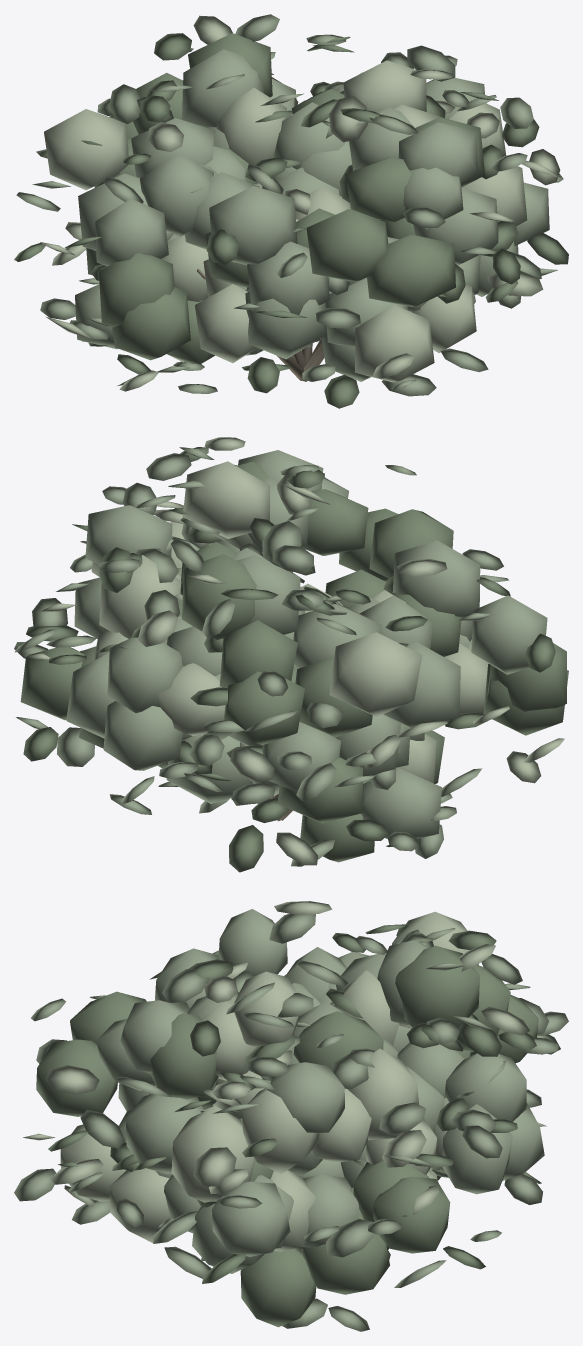
Rendered from SM_MPR3_Bush_1.fbx.
The picture shows the model from 3 angles, top to bottom: view 1: azimuth 30°, elevation 25°; view 2: azimuth 150°, elevation 25°; view 3: azimuth 270°, elevation 25°; orthographic projection. The views are drawn at different scales.
Visible parts, largest first — view 1: SM_MPR3_Bush_1; view 2: SM_MPR3_Bush_1; view 3: SM_MPR3_Bush_1.
Boxes of the visible parts, left/top/right/bottom form: SM_MPR3_Bush_1: left=14, top=14, right=568, bottom=408; SM_MPR3_Bush_1: left=14, top=437, right=568, bottom=872; SM_MPR3_Bush_1: left=14, top=901, right=568, bottom=1331.
Size of the model in its own units: 306 by 280 by 190.
